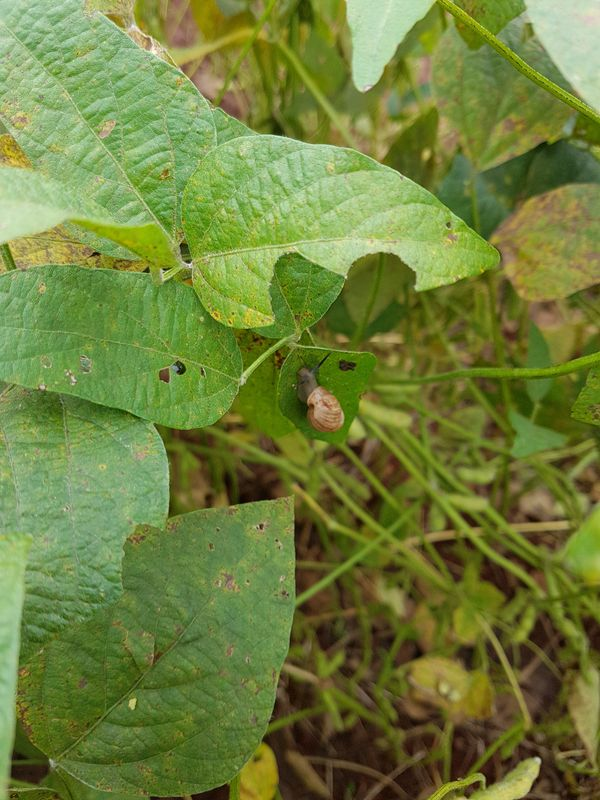Gastropoda: (281, 347, 369, 440)
